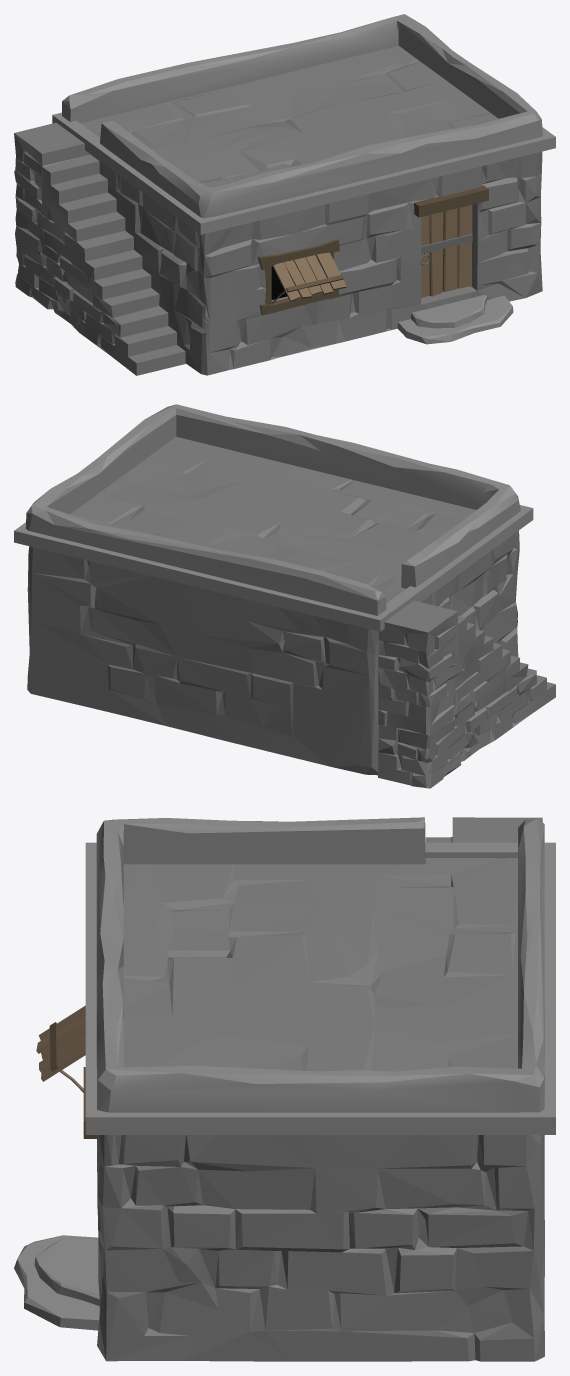
The model's file is village_stone_house_a.FBX.
3 views of the same model, one above another, from view 1: azimuth 30°, elevation 25°; view 2: azimuth 150°, elevation 25°; view 3: azimuth 270°, elevation 25° (orthographic). The views are drawn at different scales.
Parts seen in each view (by area): view 1: village_stone_house_a; view 2: village_stone_house_a; view 3: village_stone_house_a.
Part boxes in pixels (bbox=[...]): village_stone_house_a: bbox=[14, 14, 555, 375]; village_stone_house_a: bbox=[14, 404, 555, 788]; village_stone_house_a: bbox=[14, 817, 555, 1361].
Bounding box in the file's own units: 8.13 × 3.57 × 6.05.
